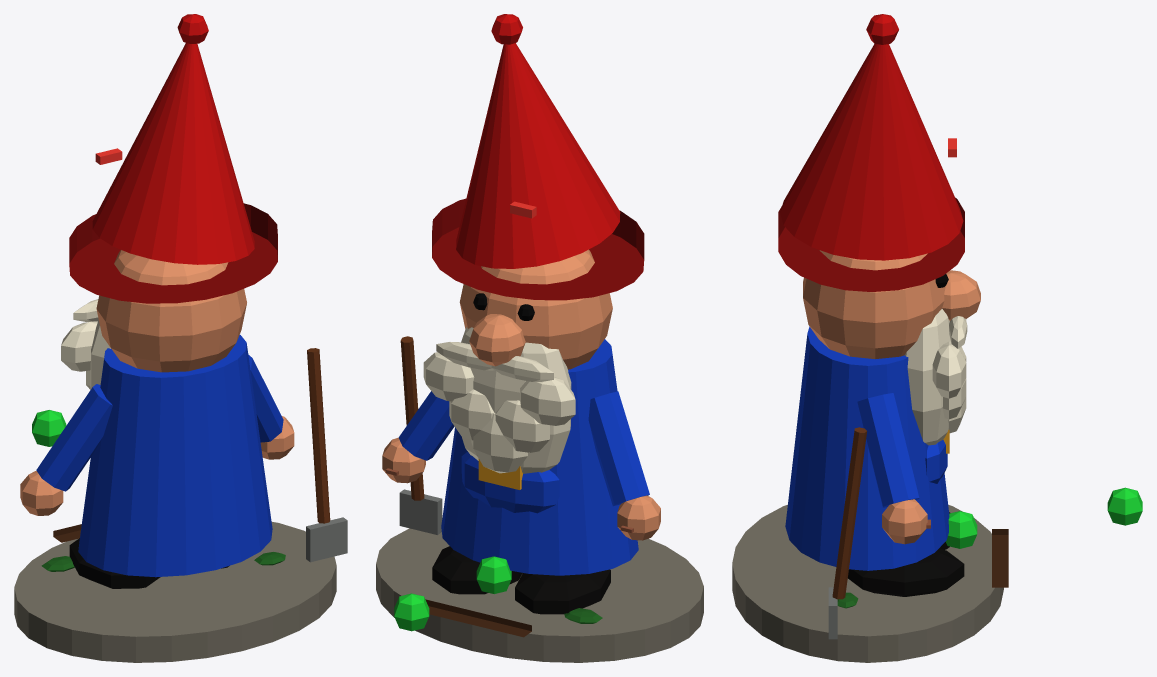
The model's file is stylized_garden_gnome.obj.
3 renders of one model, left to right at view 1: azimuth 30°, elevation 25°; view 2: azimuth 150°, elevation 25°; view 3: azimuth 270°, elevation 25°, orthographic.
Parts seen in each view (by area): view 1: Blue_tunic_body, Round_grass_stone_base, Tall_red_pointed_hat, Peach_round_face, Red_hat_brim, Left_blue_sleeve_arm, Tiny_gnome_shovel_handle, Tiny_gnome_shovel_spade, Right_blue_sleeve_arm, Left_black_boot, Left_peach_hand, White_beard_lump_1 (+4 smaller); view 2: Tall_red_pointed_hat, Round_grass_stone_base, Blue_tunic_body, Peach_round_face, Red_hat_brim, Left_blue_sleeve_arm, White_beard_main_fluffy_triangle, Left_black_boot, Round_potbelly_hint, Right_blue_sleeve_arm, Large_round_gnome_nose, White_beard_lump_1 (+16 smaller); view 3: Tall_red_pointed_hat, Round_grass_stone_base, Blue_tunic_body, Peach_round_face, Red_hat_brim, Right_blue_sleeve_arm, White_beard_main_fluffy_triangle, Right_black_boot, Tiny_gnome_shovel_handle, Right_peach_hand, White_beard_lump_5, Large_round_gnome_nose (+5 smaller).
Part boxes in pixels (x1,y1,x2,y2): Blue_tunic_body: (78,335,272,577); Round_grass_stone_base: (14,522,336,662); Tall_red_pointed_hat: (92,43,254,264); Peach_round_face: (96,250,246,372); Red_hat_brim: (69,203,277,303); Left_blue_sleeve_arm: (36,384,112,491); Tiny_gnome_shovel_handle: (307,348,330,523); Tiny_gnome_shovel_spade: (306,517,347,562); Right_blue_sleeve_arm: (248,354,283,442); Left_black_boot: (69,538,160,588); Left_peach_hand: (20,471,63,515); White_beard_lump_1: (61,321,97,371); Tall_red_pointed_hat: (456,43,620,268); Round_grass_stone_base: (376,528,703,662); Blue_tunic_body: (441,339,638,575); Peach_round_face: (459,249,612,369); Red_hat_brim: (432,198,644,300); Left_blue_sleeve_arm: (588,391,649,506); White_beard_main_fluffy_triangle: (461,327,571,473); Left_black_boot: (515,569,610,614); Round_potbelly_hint: (461,452,559,513); Right_blue_sleeve_arm: (398,391,454,460); Large_round_gnome_nose: (469,314,525,366); White_beard_lump_1: (520,377,575,425); Tall_red_pointed_hat: (780,43,963,260); Round_grass_stone_base: (732,504,1003,662); Blue_tunic_body: (785,326,949,570); Peach_round_face: (803,250,945,359); Red_hat_brim: (778,197,964,291); Right_blue_sleeve_arm: (857,393,919,507); White_beard_main_fluffy_triangle: (904,309,950,445); Right_black_boot: (848,548,964,596); Tiny_gnome_shovel_handle: (832,427,867,599); Right_peach_hand: (882,499,927,544); White_beard_lump_5: (932,341,966,398); Large_round_gnome_nose: (942,270,980,320).
Size of what is drawn, in the model's own units: 0.9604 by 1.76 by 1.12.
